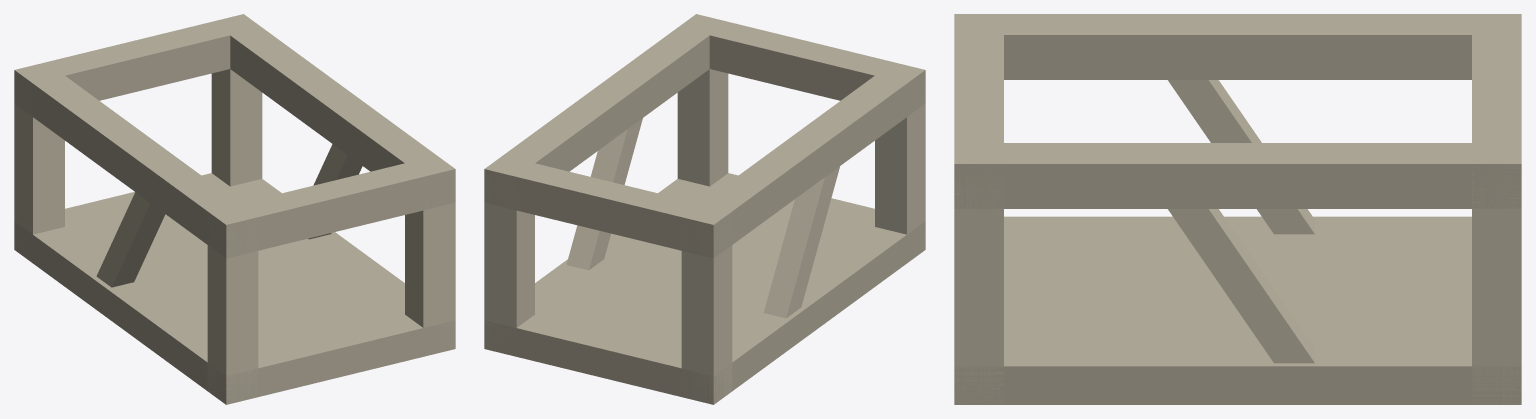
File: gantry_hull.glb
The picture shows the model from 3 angles, left to right: view 1: azimuth 30°, elevation 25°; view 2: azimuth 150°, elevation 25°; view 3: azimuth 270°, elevation 25°; orthographic projection. The views are drawn at different scales.
Visible parts, largest first — view 1: gantry_hull; view 2: gantry_hull; view 3: gantry_hull.
Part boxes in pixels (x1,y1,x2,y2): gantry_hull: [14, 14, 455, 404]; gantry_hull: [484, 14, 925, 404]; gantry_hull: [954, 14, 1521, 404].
Size of the model in its own units: 4 by 3 by 6.4.
